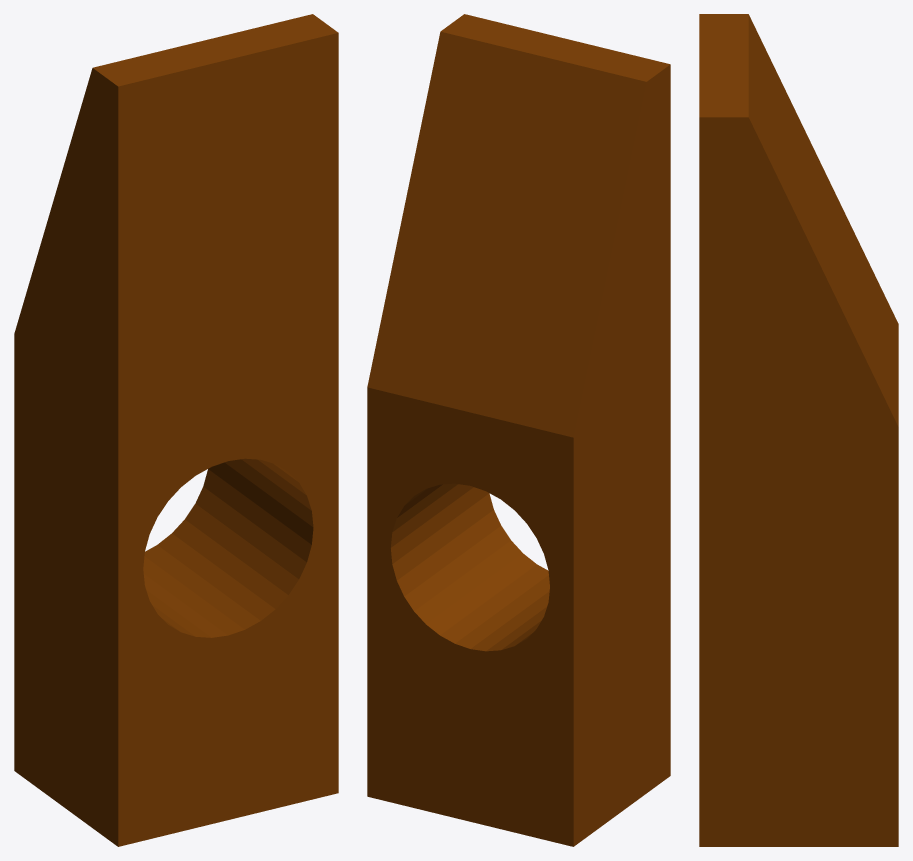
The model's file is hammer_head.obj.
The picture shows the model from 3 angles, left to right: view 1: azimuth 30°, elevation 25°; view 2: azimuth 150°, elevation 25°; view 3: azimuth 270°, elevation 25°; orthographic projection. The views are drawn at different scales.
Bounding box in the file's own units: 0.0471 × 0.1554 × 0.0384.
